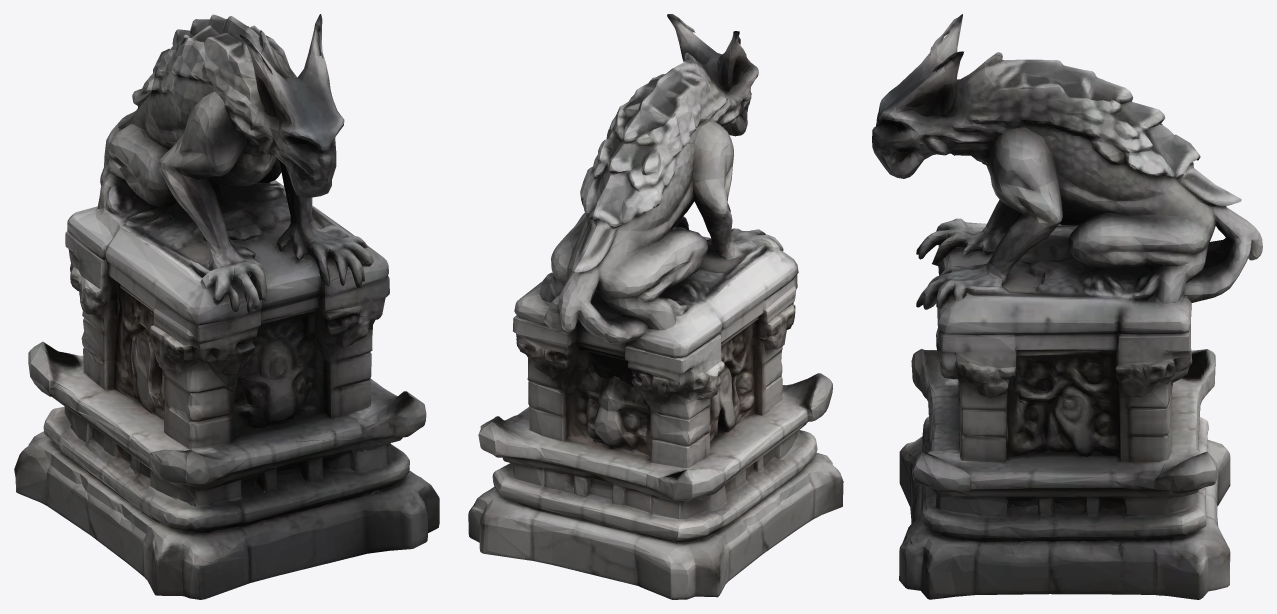
File: prop_cathedral_spire.glb
3 renders of one model, left to right at view 1: azimuth 30°, elevation 25°; view 2: azimuth 150°, elevation 25°; view 3: azimuth 270°, elevation 25°, orthographic. The views are drawn at different scales.
Visible parts, largest first — view 1: geometry_0; view 2: geometry_0; view 3: geometry_0.
Boxes of the visible parts, x1=… form: geometry_0: x1=14, y1=14, x2=439, y2=599; geometry_0: x1=468, y1=14, x2=843, y2=599; geometry_0: x1=872, y1=14, x2=1262, y2=599.
Bounding box in the file's own units: 0.5667 × 1 × 0.7059.
Materials: 1 (1 with a texture image).
